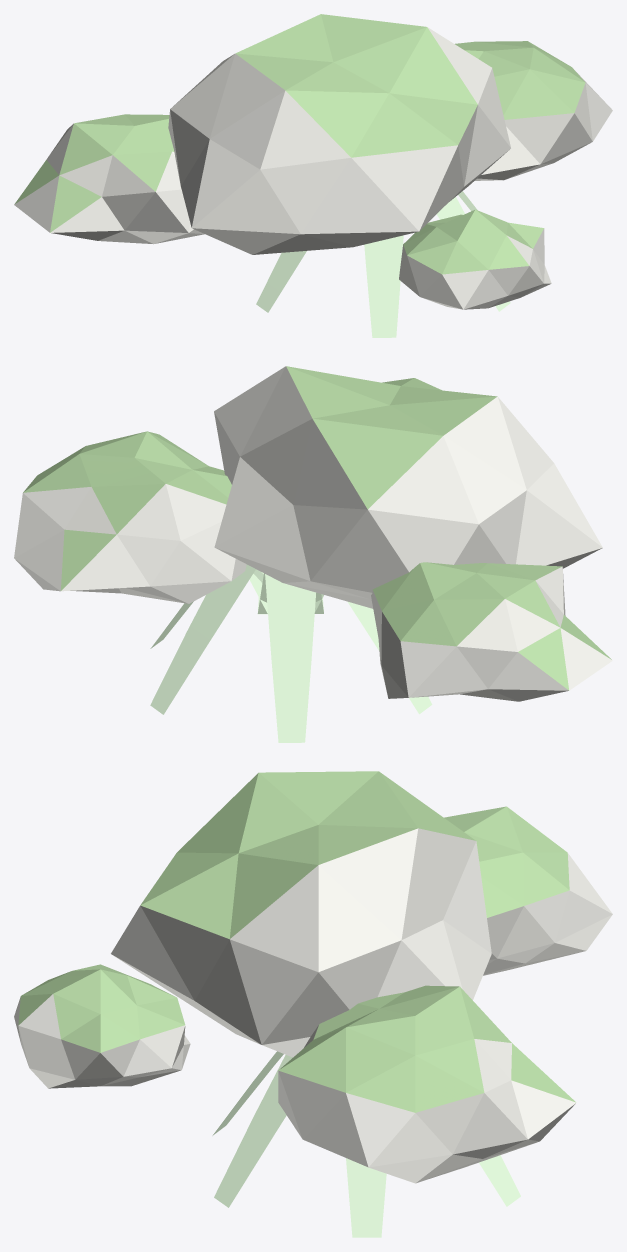
Rendered from boulder_cluster.gltf.
3 renders of one model, top to bottom at view 1: azimuth 30°, elevation 25°; view 2: azimuth 150°, elevation 25°; view 3: azimuth 270°, elevation 25°, orthographic. The views are drawn at different scales.
Parts seen in each view (by area): view 1: boulder_cluster_Stone_Rock, boulder_cluster_Stone_Moss, boulder_cluster_Fern_Frond; view 2: boulder_cluster_Stone_Rock, boulder_cluster_Stone_Moss, boulder_cluster_Fern_Frond; view 3: boulder_cluster_Stone_Rock, boulder_cluster_Stone_Moss, boulder_cluster_Fern_Frond.
Part boxes in pixels (<box>): boulder_cluster_Stone_Rock: <box>14,27,612,309</box>; boulder_cluster_Stone_Moss: <box>14,14,585,274</box>; boulder_cluster_Fern_Frond: <box>256,191,510,337</box>; boulder_cluster_Stone_Rock: <box>14,366,612,701</box>; boulder_cluster_Stone_Moss: <box>23,366,611,690</box>; boulder_cluster_Fern_Frond: <box>150,564,432,742</box>; boulder_cluster_Stone_Rock: <box>14,828,612,1183</box>; boulder_cluster_Stone_Moss: <box>18,771,575,1112</box>; boulder_cluster_Fern_Frond: <box>212,1051,520,1237</box>.
Size of the model in its own units: 3.13 by 1.44 by 2.47.
